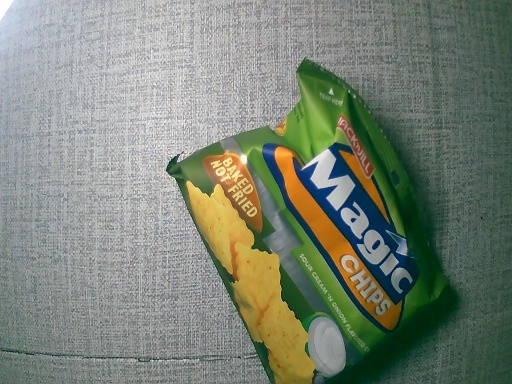plastic: (158, 63, 454, 384)
